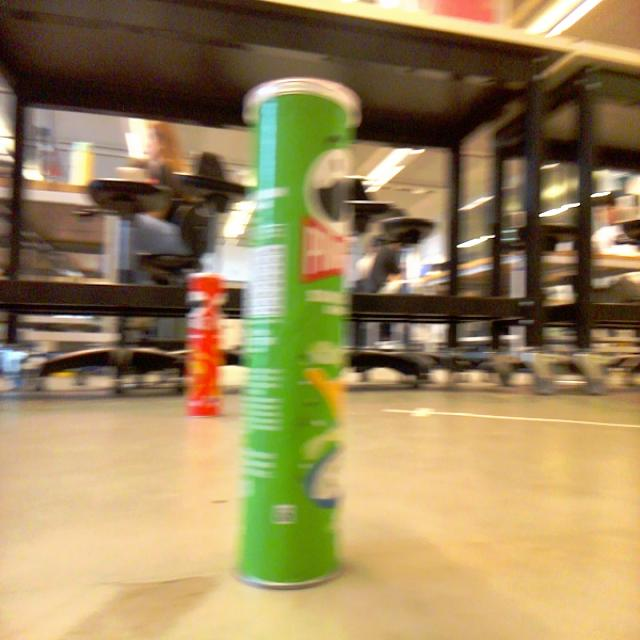greenpringles: (239, 71, 360, 586)
redpringles: (182, 256, 225, 428)
